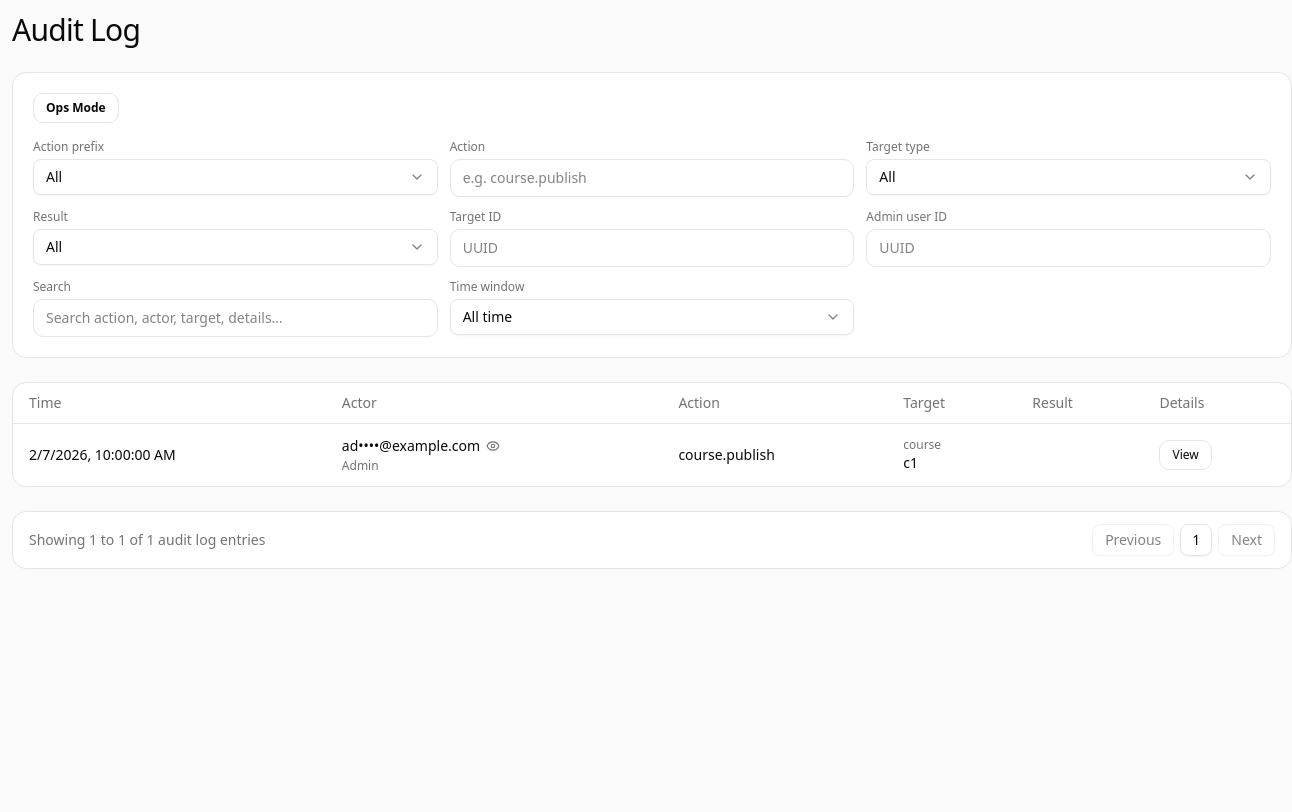
Test: AdminAuditLogPage › Ops Mode toggle switches to compact table with entity_key column
Expected: the column heading "Actor" is shown, left=326, top=383, right=662, bottom=424
Expected: the text "Entity key" is not shown
// Toggle ON
Click the button "Ops Mode" at (76, 108), box left=33, top=93, right=119, bottom=123
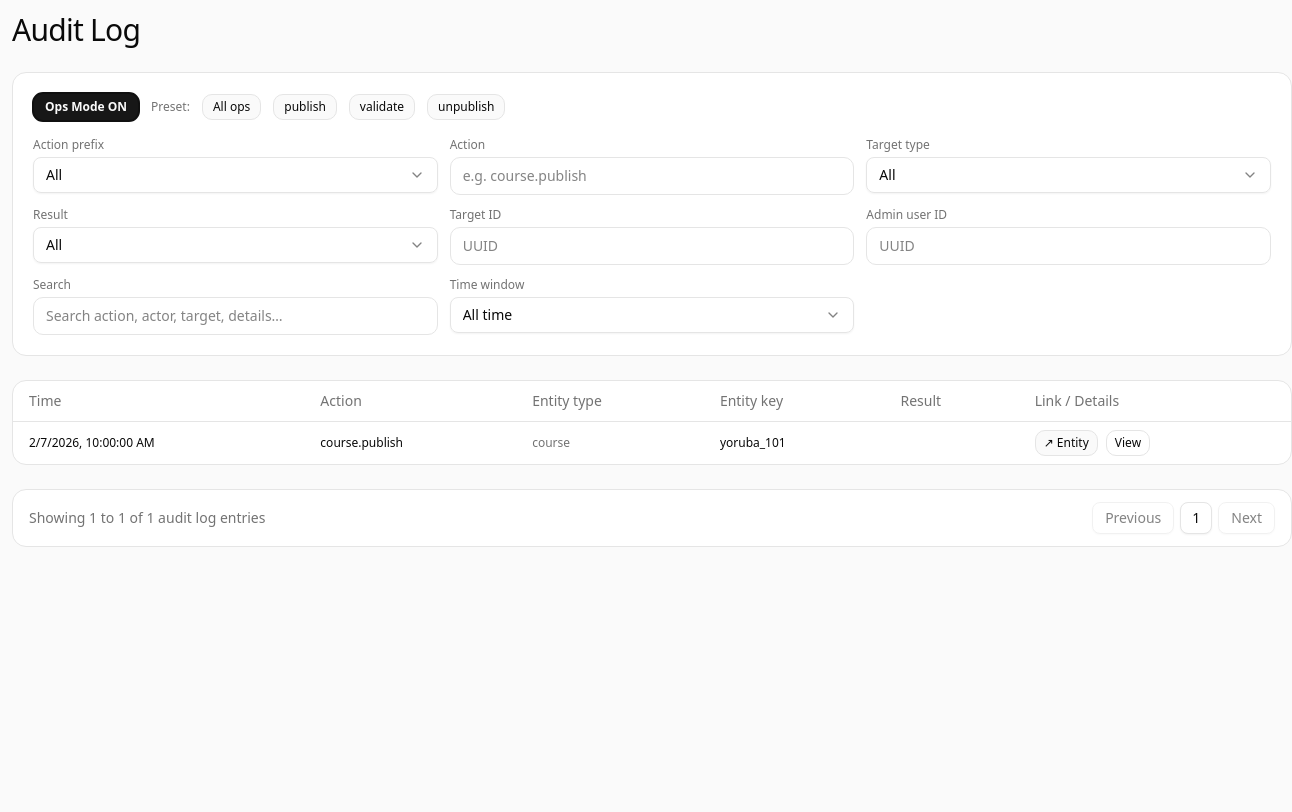
Now the column heading "Entity key" is shown, box left=704, top=381, right=884, bottom=422
Now the column heading "Entity type" is shown, box left=516, top=381, right=704, bottom=422
Now the text "yoruba_101" is shown, box left=704, top=422, right=884, bottom=464
